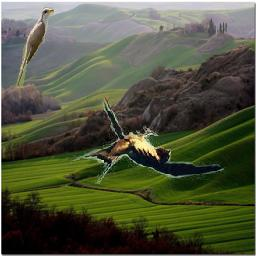Cuckoo: (16, 8, 55, 89)
Swallow: (58, 96, 226, 184)
